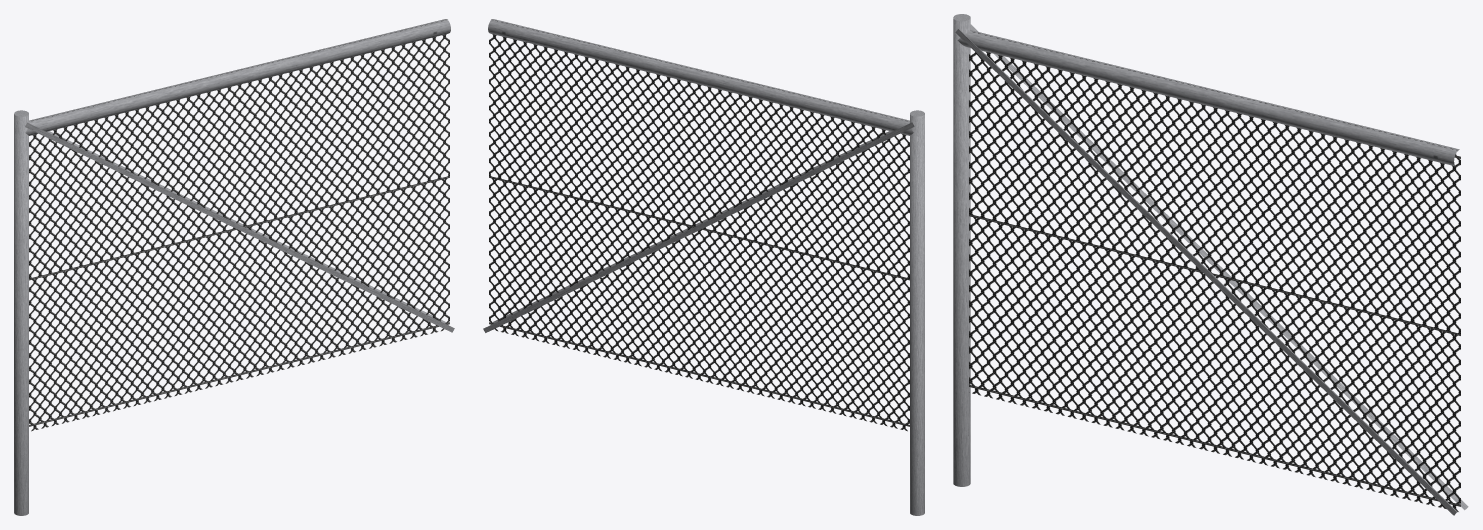
The model's file is fence-tall-chainlink-end-cbj_LOD00.gltf.
3 renders of one model, left to right at view 1: azimuth 30°, elevation 25°; view 2: azimuth 150°, elevation 25°; view 3: azimuth 330°, elevation 25°, orthographic. The views are drawn at different scales.
Visible parts, largest first — view 1: Cube; view 2: Cube; view 3: Cube.
Boxes of the visible parts, <box> form: Cube: <box>14,19,454,515</box>; Cube: <box>483,19,924,515</box>; Cube: <box>953,14,1468,515</box>.
Bounding box in the file's own units: 2.67 × 2.33 × 0.0899.
